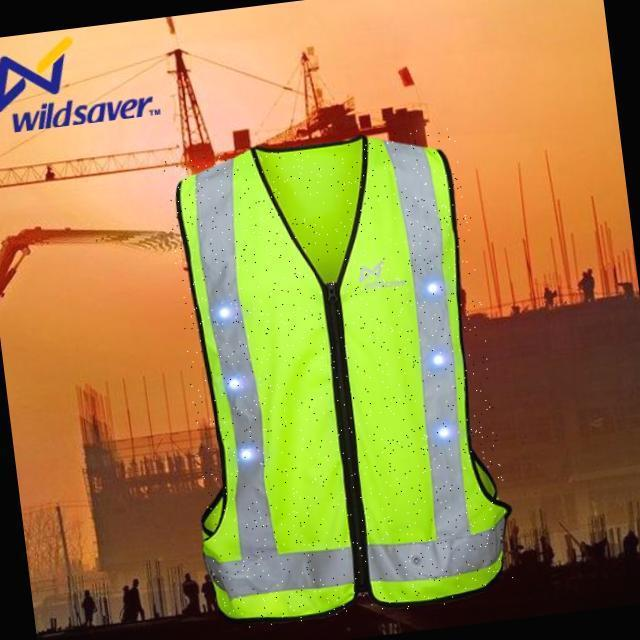vest: (162, 125, 517, 632)
